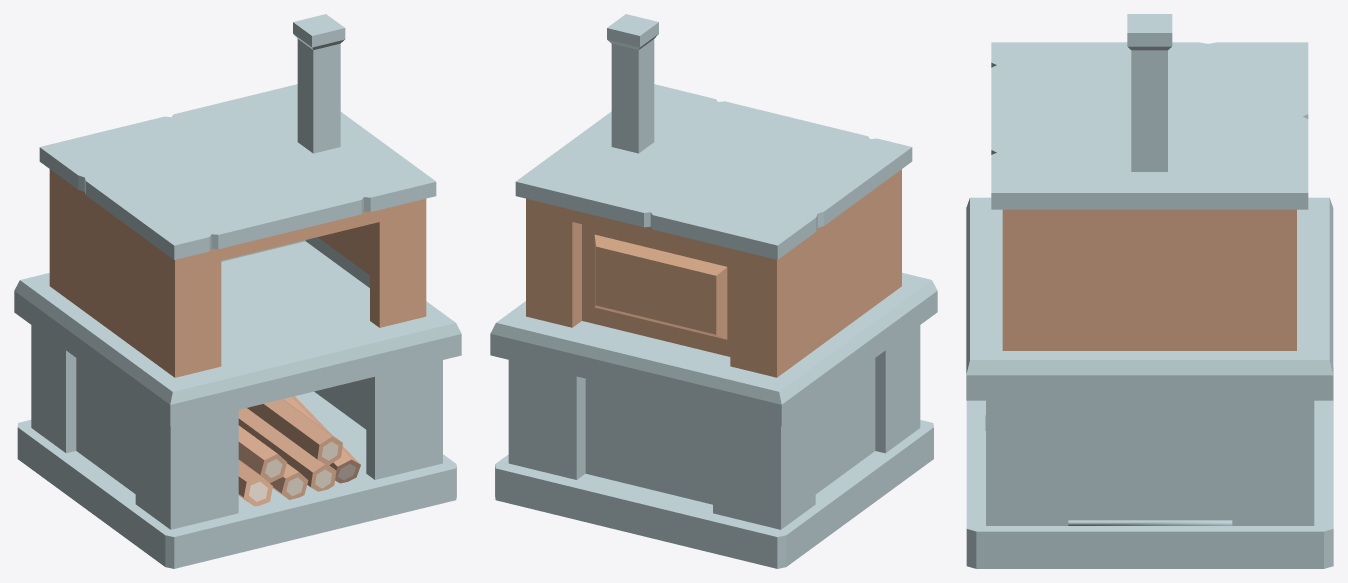
File: Oven.fbx
The picture shows the model from 3 angles, left to right: view 1: azimuth 30°, elevation 25°; view 2: azimuth 150°, elevation 25°; view 3: azimuth 270°, elevation 25°; orthographic projection. The views are drawn at different scales.
Visible parts, largest first — view 1: altarWood, altarStone, log_stack, borderPillar, log_stack.001; view 2: altarWood, altarStone, borderPillar; view 3: altarWood, altarStone, borderPillar.
Boxes of the visible parts, <box> form: altarWood: <box>14,84,461,426</box>; altarStone: <box>17,325,456,568</box>; log_stack: <box>238,396,360,491</box>; borderPillar: <box>293,14,345,153</box>; log_stack.001: <box>238,425,308,506</box>; altarWood: <box>490,84,937,426</box>; altarStone: <box>495,325,933,568</box>; borderPillar: <box>607,14,658,153</box>; altarWood: <box>966,42,1333,400</box>; altarStone: <box>966,367,1333,568</box>; borderPillar: <box>1127,14,1172,171</box>.
Bounding box in the file's own units: 21.19 × 29.98 × 19.62.
